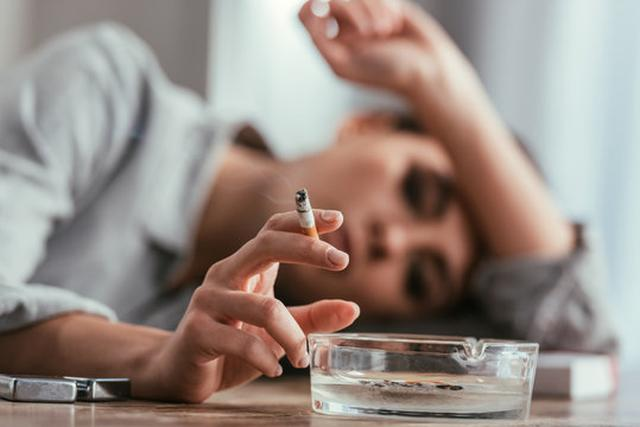Cigarette: (294, 187, 319, 240)
